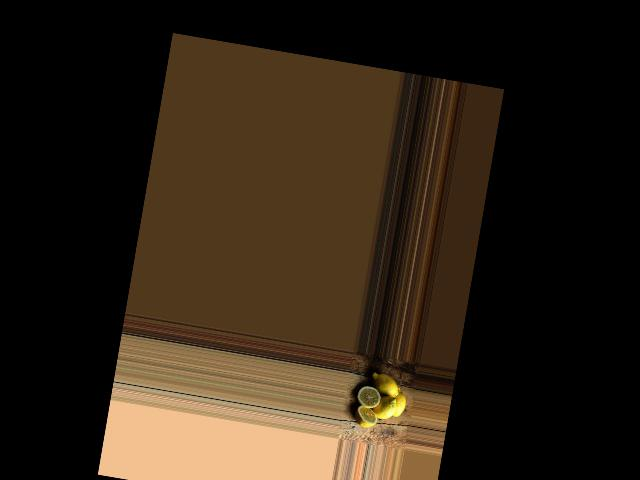lemon: (367, 368, 403, 399)
